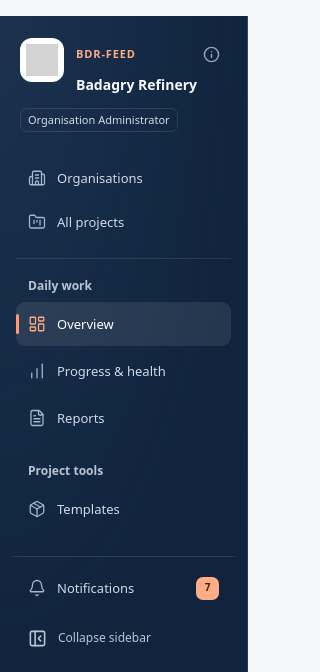
collapsible desktop project sidebar › preserves every organisation_admin destination, accessible link name and badge while collapsed
Click the button "Collapse sidebar". click: (124, 638)
box: x1=16 y1=616 x2=231 y2=660
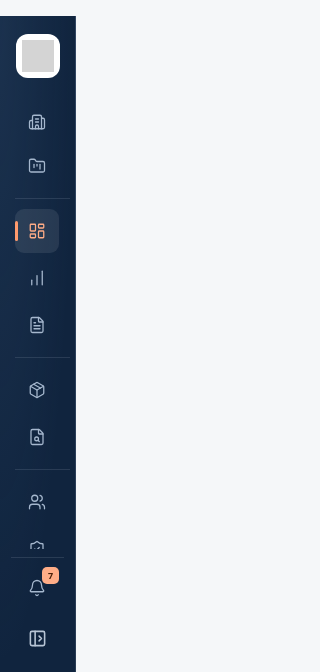
Expected: the link "7" is shown, x1=15 y1=566 x2=59 y2=610
Expected: the number of links is 10
